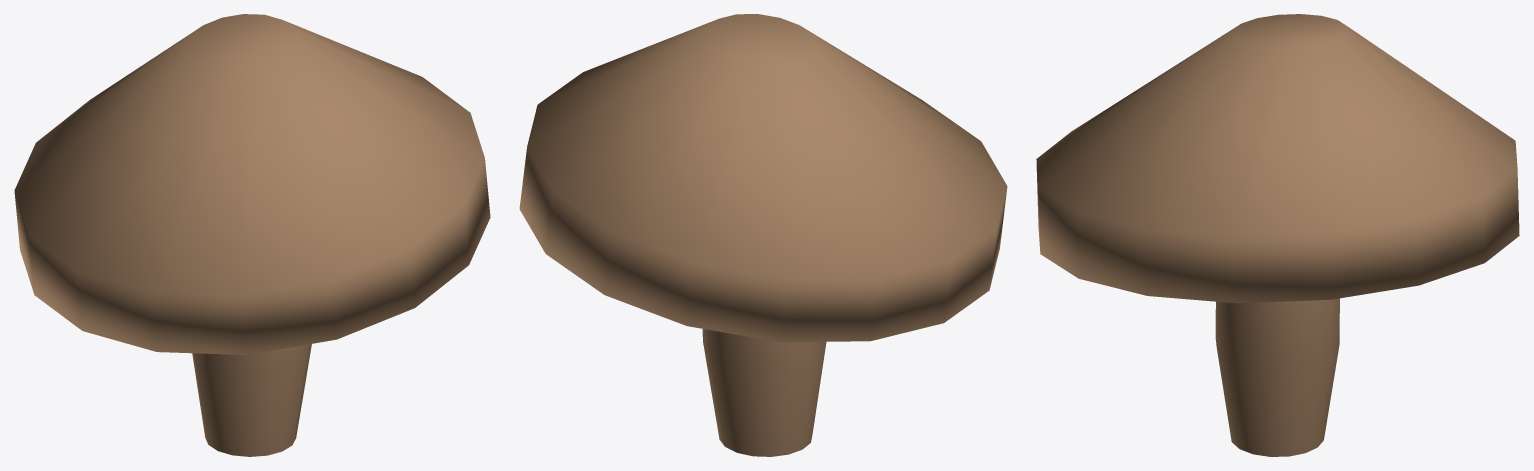
File: mushrooms04.fbx
3 views of the same model, side by side, from view 1: azimuth 30°, elevation 25°; view 2: azimuth 150°, elevation 25°; view 3: azimuth 270°, elevation 25° (orthographic). The views are drawn at different scales.
Visible parts, largest first — view 1: Cylinder.013; view 2: Cylinder.013; view 3: Cylinder.013.
Boxes of the visible parts, x1,y1,x2,y2 form: Cylinder.013: (14, 14, 490, 456); Cylinder.013: (519, 14, 1007, 456); Cylinder.013: (1036, 14, 1519, 456).
Bounding box in the file's own units: 41.27 × 38.62 × 41.03.
